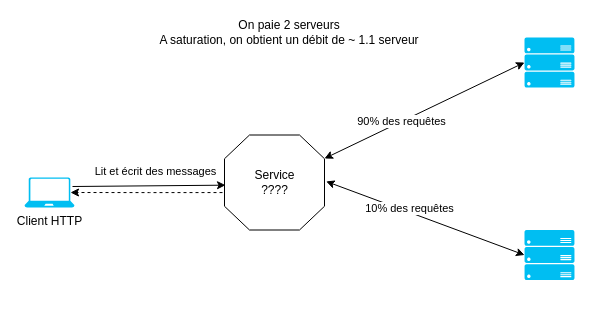
Image size: 593x318. Some labels were removed from this diagram. Each missing label, with the box of its shape:
Serveur 1: (524, 37, 574, 87)
Serveur 2: (524, 230, 574, 280)
